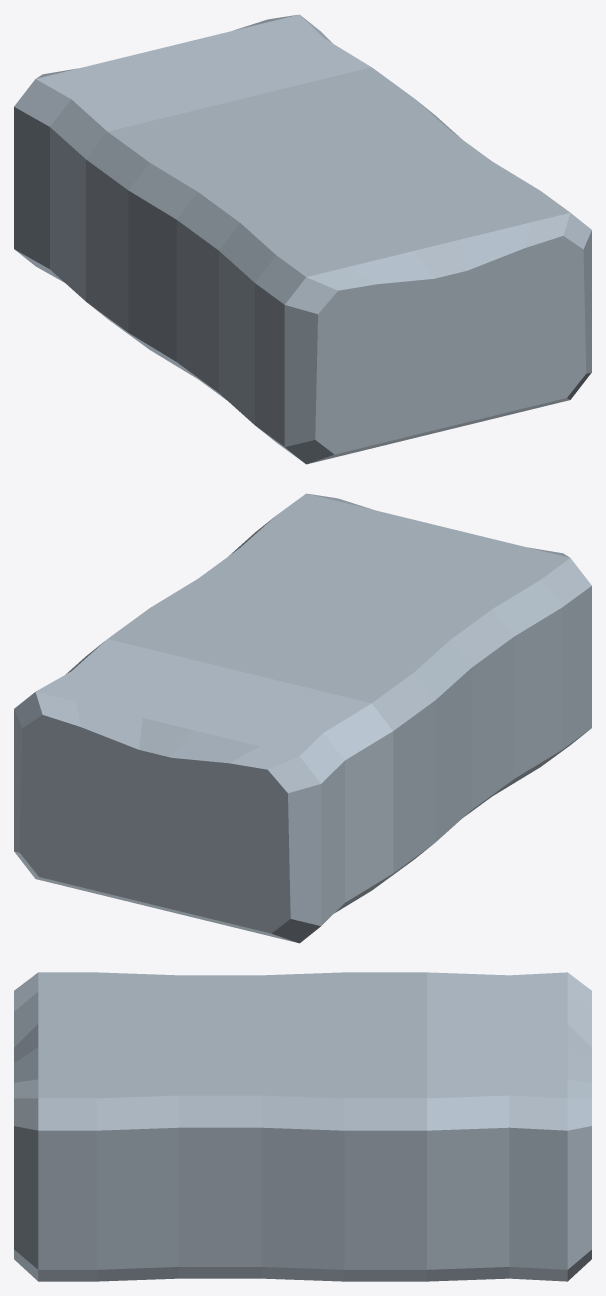
File: pillar_heavy_a.glb
3 views of the same model, one above another, from view 1: azimuth 30°, elevation 25°; view 2: azimuth 150°, elevation 25°; view 3: azimuth 270°, elevation 25° (orthographic). The views are drawn at different scales.
Visible parts, largest first — view 1: pillar_heavy_a; view 2: pillar_heavy_a; view 3: pillar_heavy_a.
Boxes of the visible parts, x1,y1,x2,y2 form: pillar_heavy_a: (14,14,591,464); pillar_heavy_a: (14,493,591,943); pillar_heavy_a: (14,972,591,1281).
Size of the model in its own units: 4.5 by 2.62 by 7.5.
